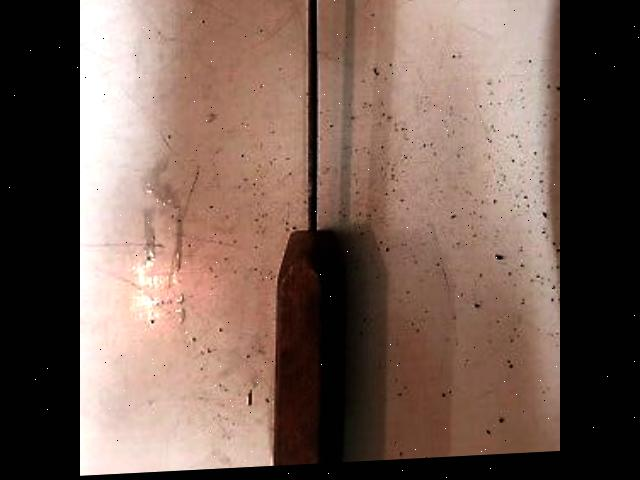ice pick: (270, 0, 341, 469)
